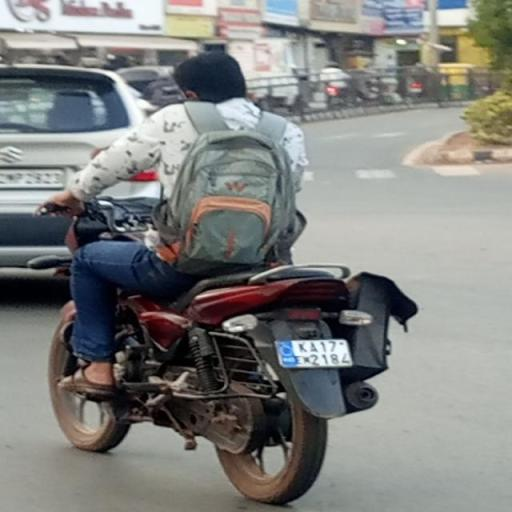bike: (42, 46, 420, 506)
numberplate: (277, 338, 355, 372)
using mobile: (170, 91, 200, 104)
withouthelmet: (168, 42, 249, 110)
